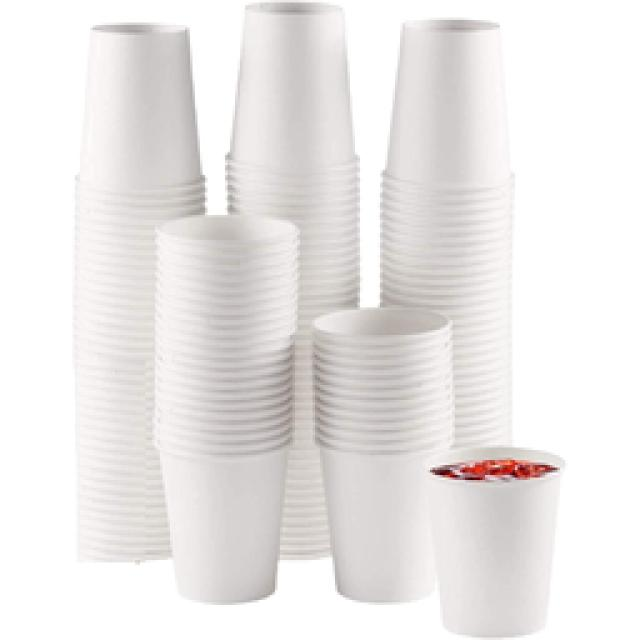paper_cups: (148, 384, 293, 608), (425, 445, 573, 640), (381, 22, 522, 218), (224, 2, 362, 193), (72, 21, 208, 207), (322, 445, 437, 601)
